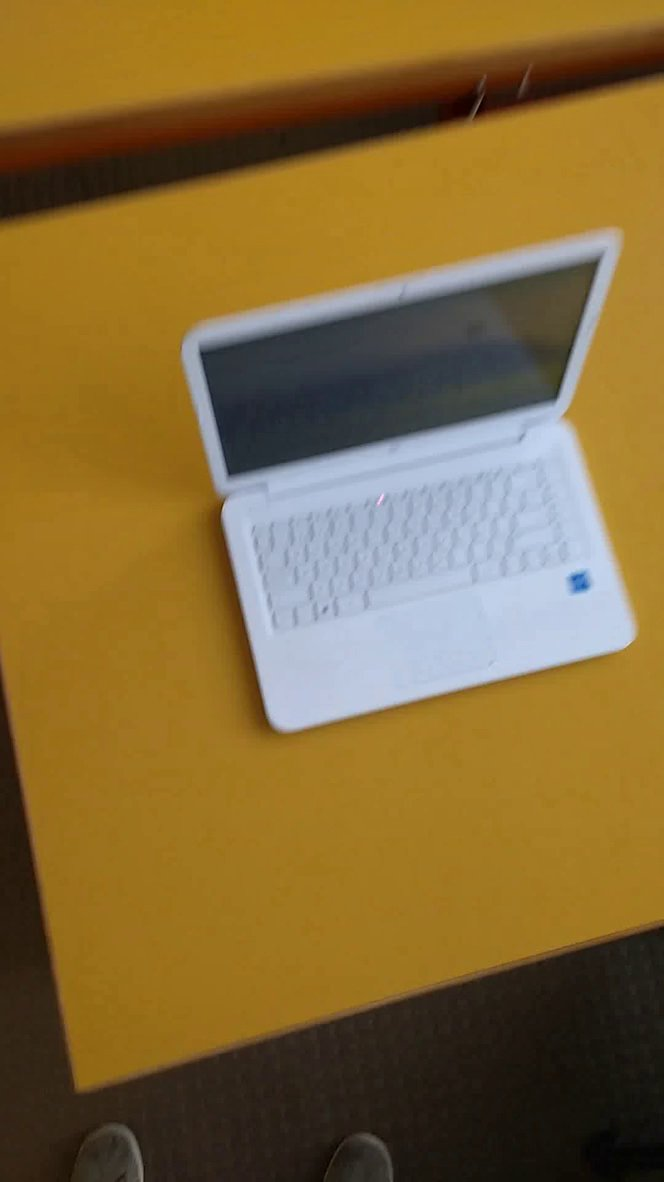laptop: (175, 220, 646, 744)
